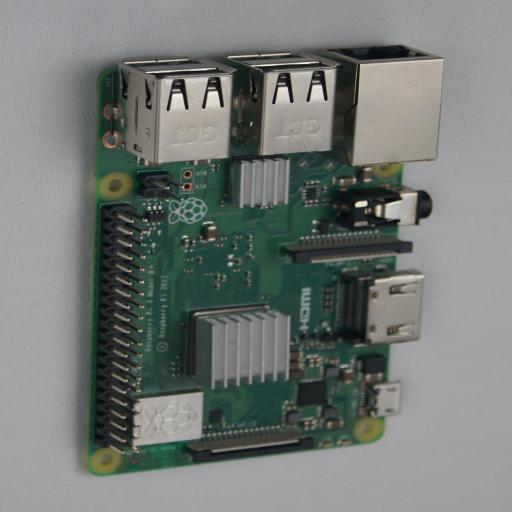Raspberry Pi 3 B-: (77, 44, 444, 476)
